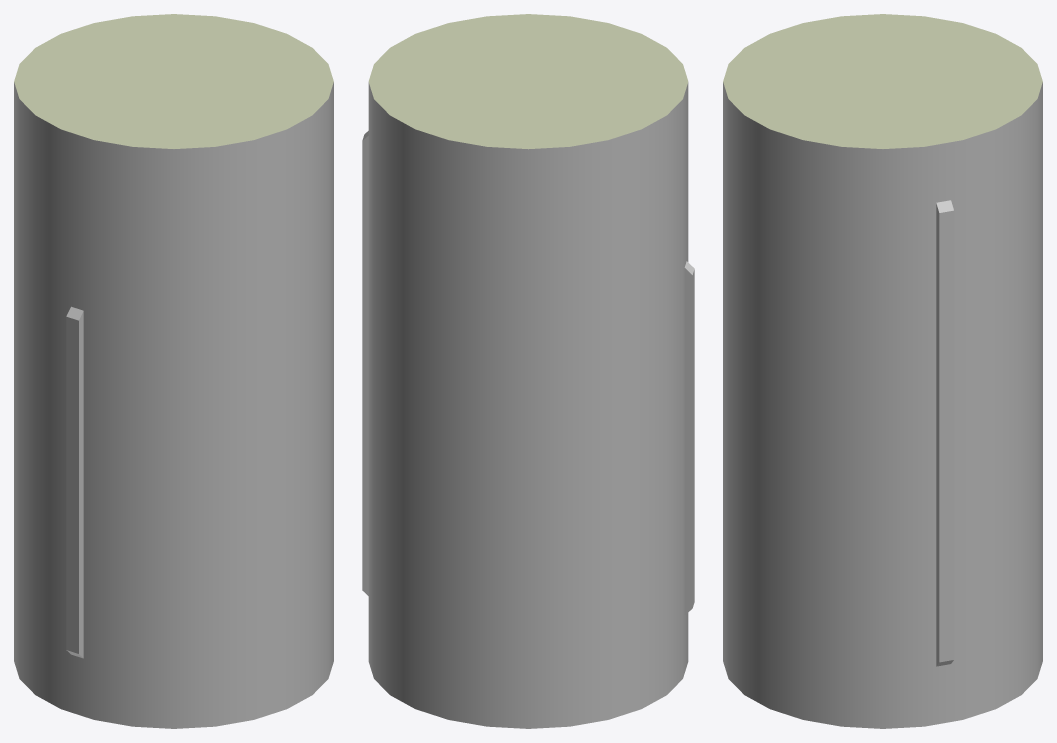
File: ArrowStage1_LFO_1.obj
The picture shows the model from 3 angles, left to right: view 1: azimuth 30°, elevation 25°; view 2: azimuth 150°, elevation 25°; view 3: azimuth 270°, elevation 25°; orthographic projection.
Visible parts, largest first — view 1: ArrowStage1_LFO_1_ArrowStage1_LFO_1_auv, ArrowStage1_LFO_1_default; view 2: ArrowStage1_LFO_1_ArrowStage1_LFO_1_auv, ArrowStage1_LFO_1_default; view 3: ArrowStage1_LFO_1_ArrowStage1_LFO_1_auv, ArrowStage1_LFO_1_default.
Part boxes in pixels (x1,y1,x2,y2): ArrowStage1_LFO_1_ArrowStage1_LFO_1_auv: (14,82,333,728); ArrowStage1_LFO_1_default: (14,14,333,148); ArrowStage1_LFO_1_ArrowStage1_LFO_1_auv: (362,82,694,728); ArrowStage1_LFO_1_default: (368,14,688,149); ArrowStage1_LFO_1_ArrowStage1_LFO_1_auv: (723,82,1042,728); ArrowStage1_LFO_1_default: (723,14,1042,148).
Bounding box in the file's own units: 1.25 × 2.5 × 1.25.
